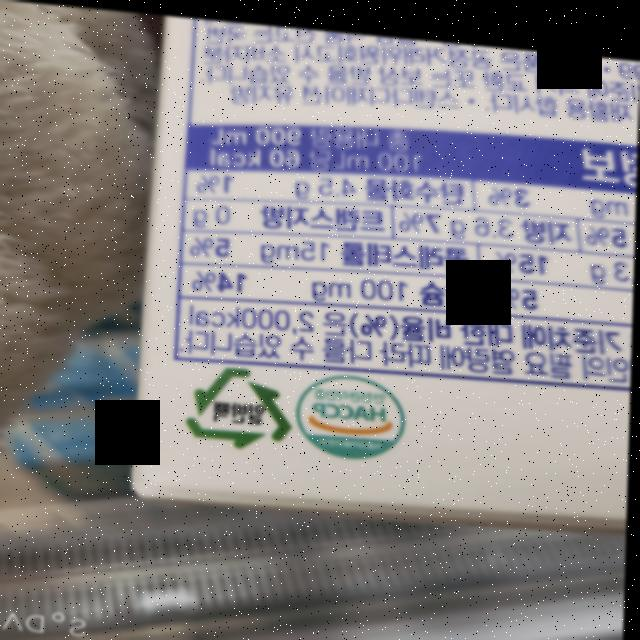NormalPack: (187, 356, 299, 449)
